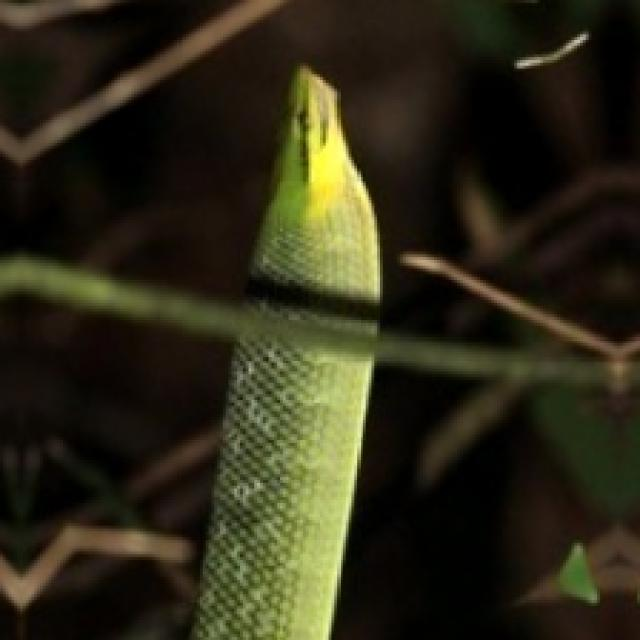red-tailed green ratsnake: (191, 331, 371, 637), (249, 66, 377, 331)
